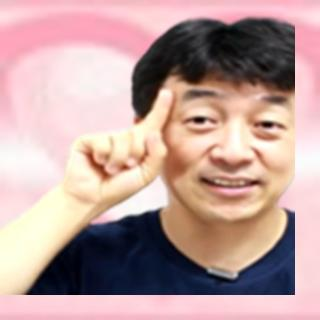IRRITATED: (56, 86, 176, 215)
